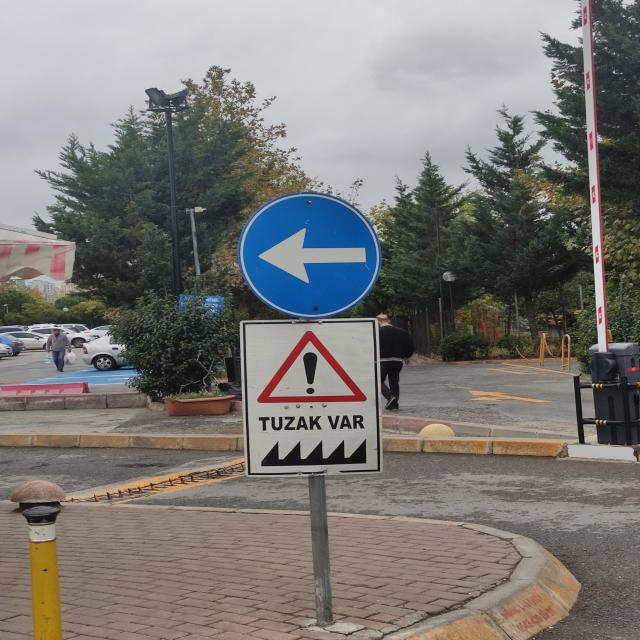Turn Left: (233, 192, 390, 317)
